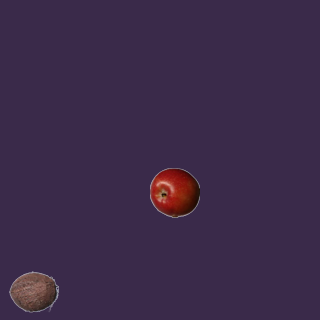Apple Braeburn: (149, 167, 199, 217)
Cocos: (8, 266, 58, 316)
